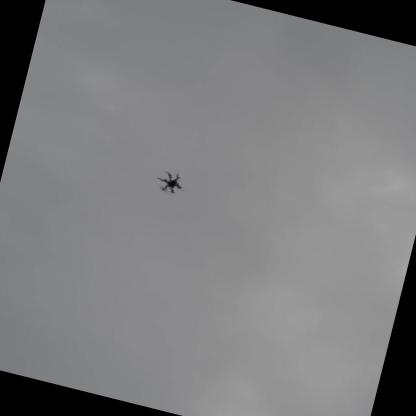drone: (144, 160, 197, 203)
